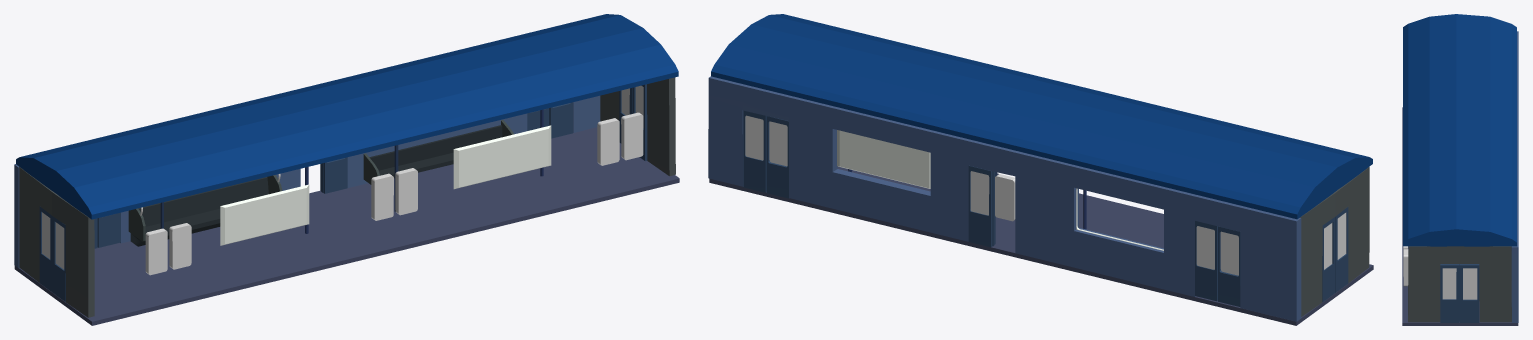
Rendered from kereta kertaan.fbx.
3 renders of one model, left to right at view 1: azimuth 30°, elevation 25°; view 2: azimuth 150°, elevation 25°; view 3: azimuth 270°, elevation 25°, orthographic. The views are drawn at different scales.
Visible parts, largest first — view 1: Atap, Lantai, Tembok.003, Jendela.002, Tembok, Jendela, Kursi.001, Tembok.2, Kursi.002, Kaca(bg).011, Kaca(bg).012, Kaca(bg).008 (+9 smaller); view 2: Atap, Tembok, Lantai, Tembok.003, Jendela.003, Pintu(bg).004, Pintu(bg).010, Pintu(bg).009, Pintu(bg).001, Pintu(bg).002, Kaca(bg).003, Kaca(bg).004 (+6 smaller); view 3: Atap, Tembok.2, Tembok, Lantai, Pintu.1, Pintu.002, Kaca.001, Kaca, Kaca(bg).012.
Part boxes in pixels (<box>): Atap: <box>16,14,678,219</box>; Lantai: <box>14,127,679,325</box>; Tembok.003: <box>19,166,94,317</box>; Jendela.002: <box>453,125,551,189</box>; Tembok: <box>14,95,600,268</box>; Jendela: <box>220,184,309,245</box>; Kursi.001: <box>130,177,268,246</box>; Tembok.2: <box>600,77,675,176</box>; Kursi.002: <box>369,125,502,178</box>; Kaca(bg).011: <box>597,118,619,165</box>; Kaca(bg).012: <box>621,112,643,160</box>; Kaca(bg).008: <box>395,168,417,215</box>; Atap: <box>711,14,1372,219</box>; Tembok: <box>708,76,1301,321</box>; Lantai: <box>709,166,1373,325</box>; Tembok.003: <box>1300,167,1369,316</box>; Jendela.003: <box>837,130,930,188</box>; Pintu(bg).004: <box>968,165,995,247</box>; Pintu(bg).010: <box>743,110,766,192</box>; Pintu(bg).009: <box>766,116,789,198</box>; Pintu(bg).001: <box>1218,226,1240,306</box>; Pintu(bg).002: <box>1195,221,1217,301</box>; Kaca(bg).003: <box>995,174,1015,221</box>; Kaca(bg).004: <box>970,171,989,215</box>; Atap: <box>1403,14,1516,246</box>; Tembok.2: <box>1408,246,1511,322</box>; Tembok: <box>1511,31,1518,322</box>; Lantai: <box>1402,107,1518,325</box>; Pintu.1: <box>1440,264,1459,322</box>; Pintu.002: <box>1460,264,1479,322</box>; Kaca.001: <box>1463,268,1477,299</box>; Kaca: <box>1442,268,1456,299</box>; Kaca(bg).012: <box>1403,249,1408,286</box>.
Size of the model in its own units: 4848 by 1007 by 1103.
